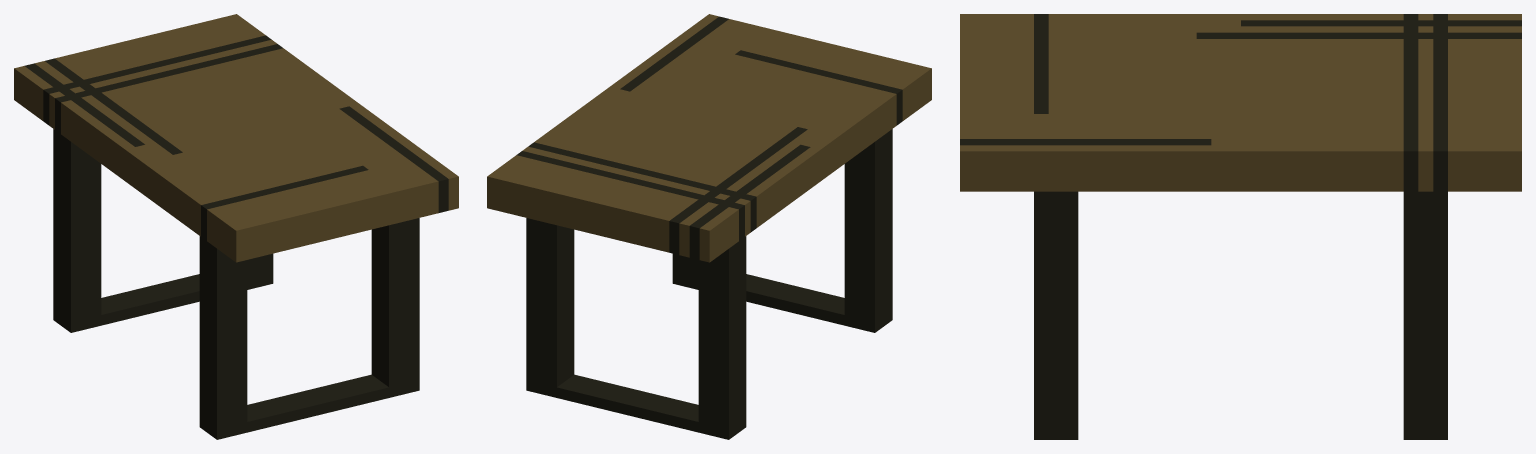
The model's file is Table2(Factory-New)(Frame1).obj.
3 renders of one model, left to right at view 1: azimuth 30°, elevation 25°; view 2: azimuth 150°, elevation 25°; view 3: azimuth 270°, elevation 25°, orthographic. The views are drawn at different scales.
Size of the model in its own units: 2.2 by 2.2 by 3.8.
Materials: 1 (1 with a texture image).
